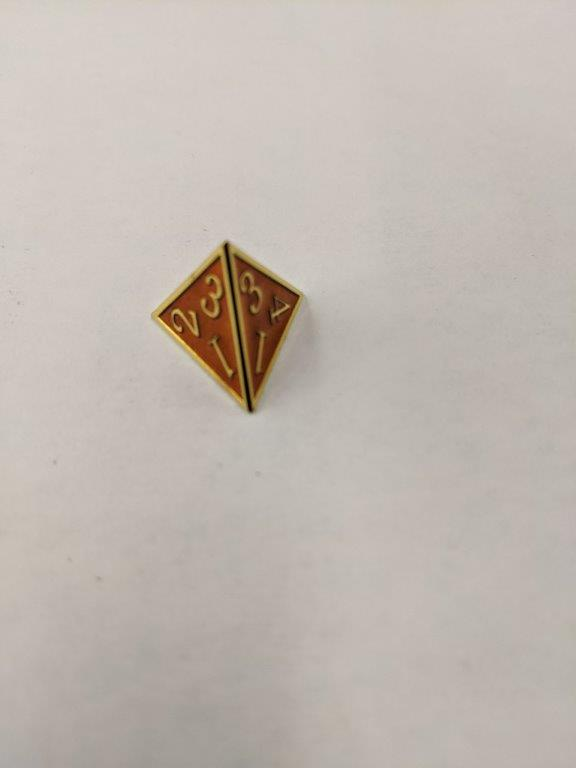d4-3: (149, 239, 305, 416)
